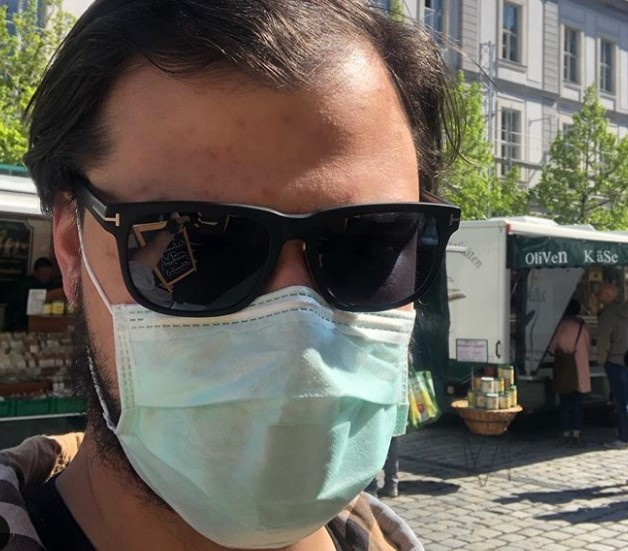face_with_mask: (24, 0, 462, 551)
